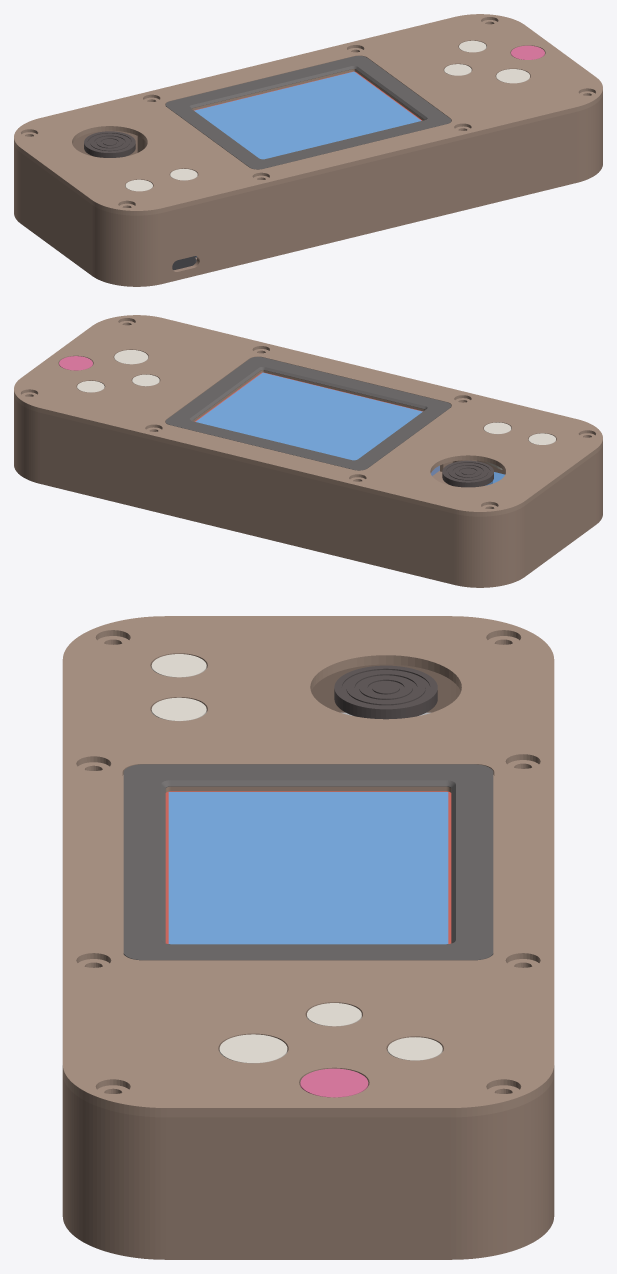
Rendered from chaipi-landscape.glb.
3 renders of one model, top to bottom at view 1: azimuth 30°, elevation 25°; view 2: azimuth 150°, elevation 25°; view 3: azimuth 270°, elevation 25°, orthographic. The views are drawn at different scales.
Parts seen in each view (by area): view 1: tub, top_plate, screen picture, lens, joystick_cap, cap_Undo, cap_Confirm; view 2: tub, top_plate, screen picture, lens, joystick_cap, cap_Undo, cap_Confirm; view 3: top_plate, tub, screen picture, lens, joystick_cap, cap_Confirm, cap_Undo, screen, cap_Esc, cap_Tab, cap_Fn, cap_Menu.
Boxes of the visible parts, x1,y1,x2,y2 form: tub: (14, 94, 602, 286); top_plate: (14, 14, 602, 215); screen picture: (194, 71, 421, 159); lens: (165, 55, 451, 169); joystick_cap: (84, 131, 135, 157); cap_Undo: (496, 69, 529, 83); cap_Confirm: (511, 45, 544, 59); tub: (14, 395, 602, 587); top_plate: (14, 315, 602, 516); screen picture: (195, 372, 422, 460); lens: (165, 356, 451, 470); joystick_cap: (442, 460, 493, 487); cap_Undo: (114, 350, 148, 364); cap_Confirm: (59, 356, 92, 370); top_plate: (62, 616, 554, 1117); tub: (62, 664, 554, 1259); screen picture: (168, 792, 448, 944); lens: (123, 764, 493, 960); joystick_cap: (334, 665, 437, 719); cap_Confirm: (300, 1068, 368, 1097); cap_Undo: (219, 1034, 287, 1063); screen: (165, 791, 451, 943); cap_Esc: (387, 1037, 442, 1060); cap_Tab: (151, 654, 206, 677); cap_Fn: (307, 1003, 361, 1026); cap_Menu: (151, 697, 206, 721).
Size of the model in its own units: 0.18 by 0.0259 by 0.076.
